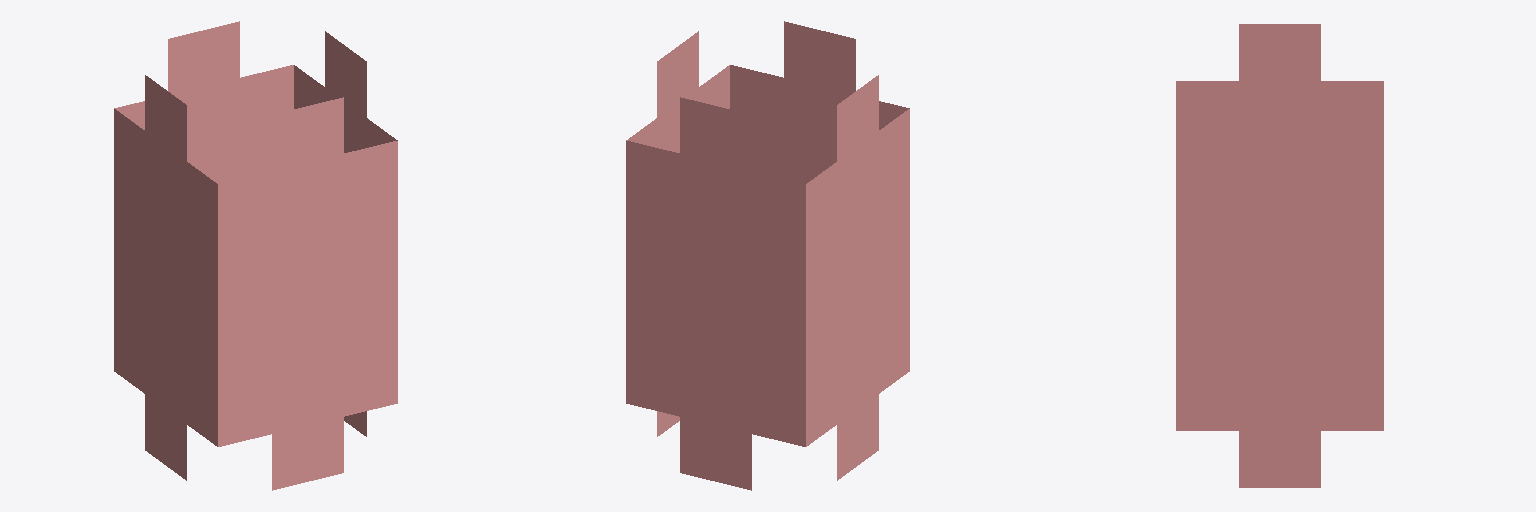
The model's file is circuit_new.obj.
3 views of the same model, side by side, from view 1: azimuth 30°, elevation 25°; view 2: azimuth 150°, elevation 25°; view 3: azimuth 270°, elevation 25° (orthographic).
Parts seen in each view (by area): view 1: Box00123; view 2: Box00123; view 3: Box00123.
Part boxes in pixels (x1,y1,x2,y2): Box00123: (114, 21, 397, 490); Box00123: (626, 21, 909, 490); Box00123: (1176, 24, 1383, 487).
Bounding box in the file's own units: 100 × 200 × 100.